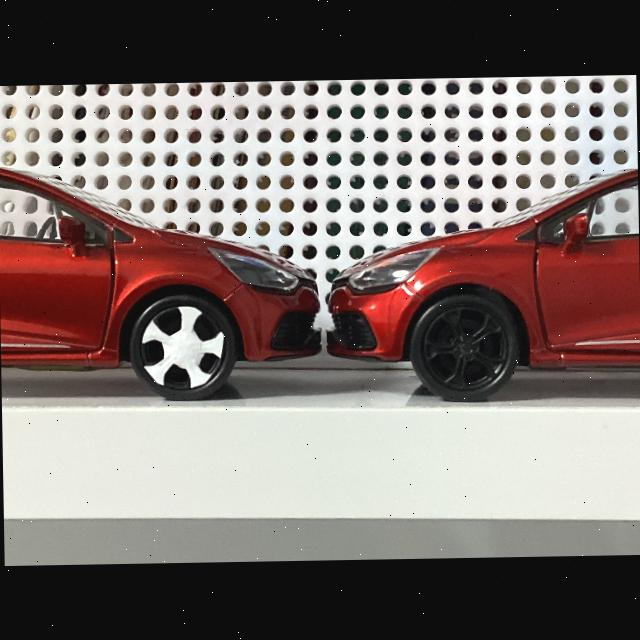Dogru_Jant: (425, 306, 506, 388)
Yanlis_Jant: (140, 306, 224, 391)
